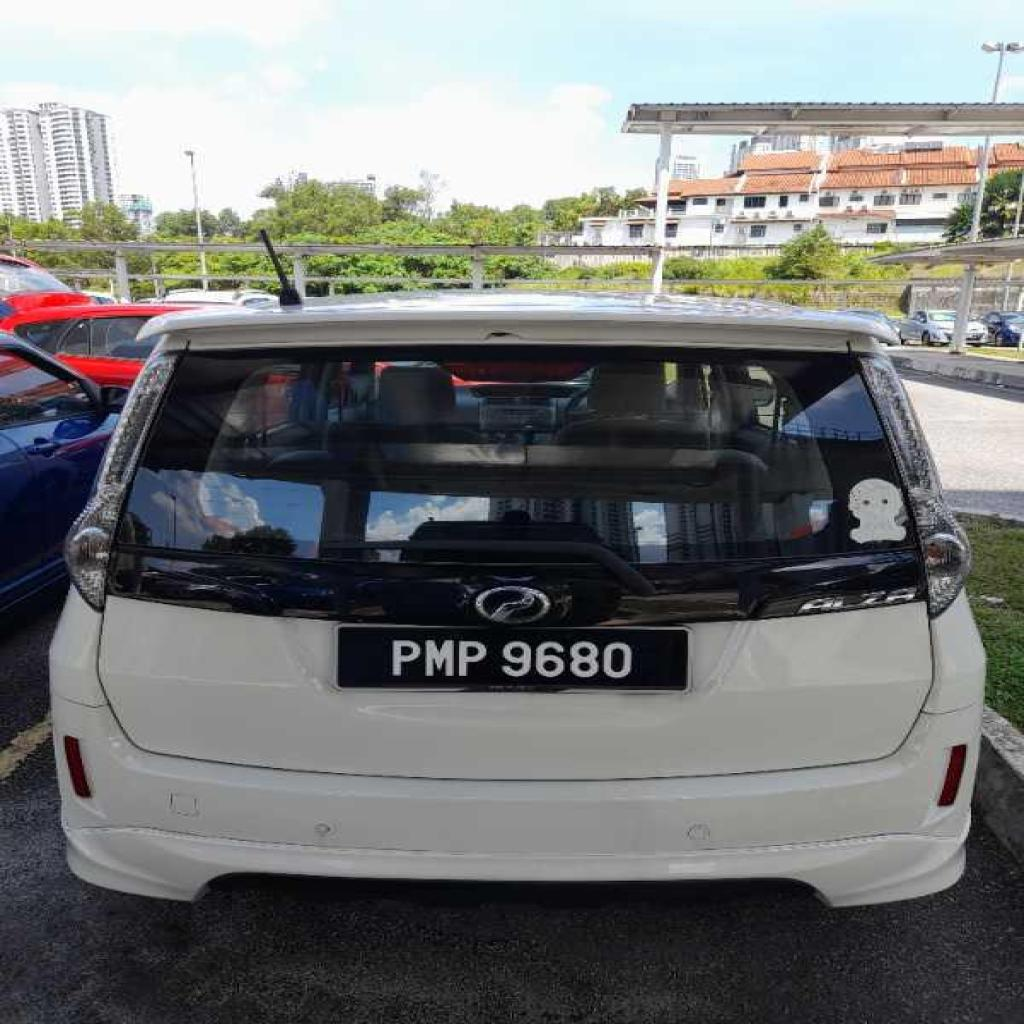car: (48, 292, 981, 902)
car plate: (340, 627, 686, 689)
